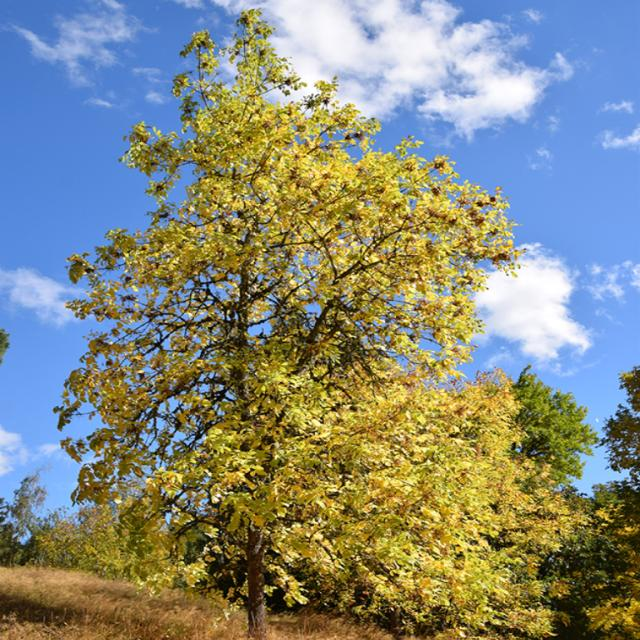Fraxinus latifolia: (43, 8, 582, 638)
